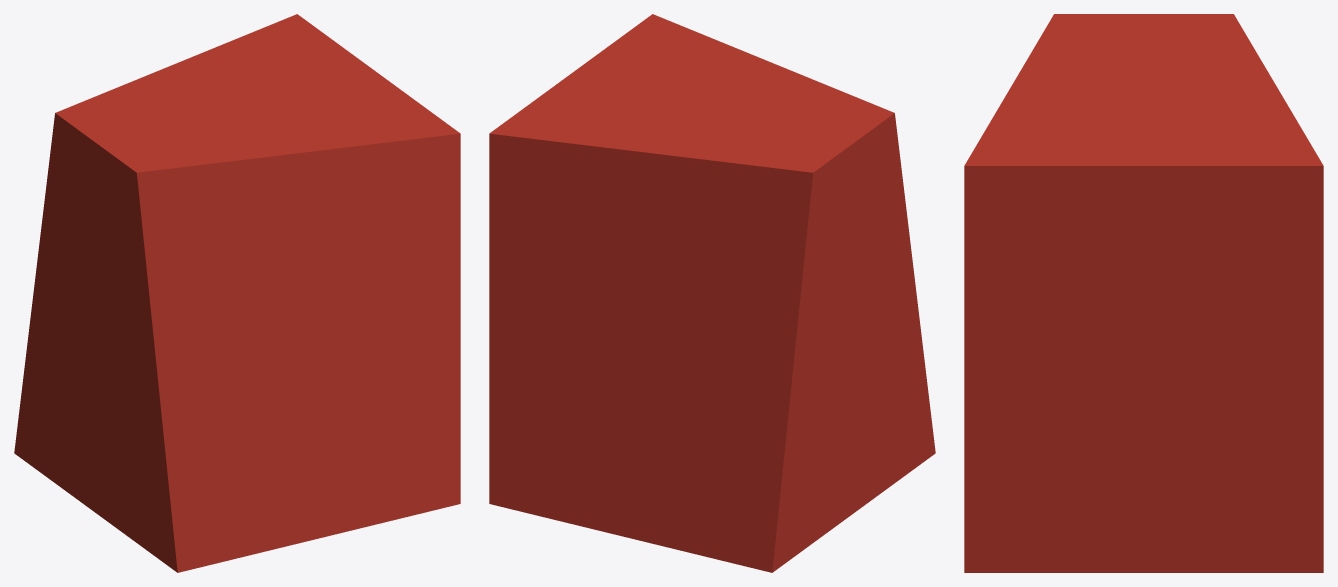
File: wall.glb
3 renders of one model, left to right at view 1: azimuth 30°, elevation 25°; view 2: azimuth 150°, elevation 25°; view 3: azimuth 270°, elevation 25°, orthographic. The views are drawn at different scales.
Visible parts, largest first — view 1: Cube.004; view 2: Cube.004; view 3: Cube.004.
Boxes of the visible parts, x1,y1,x2,y2 form: Cube.004: [14, 14, 460, 572]; Cube.004: [489, 14, 935, 572]; Cube.004: [964, 14, 1323, 572].
Size of the model in its own units: 2 by 2.5 by 2.
